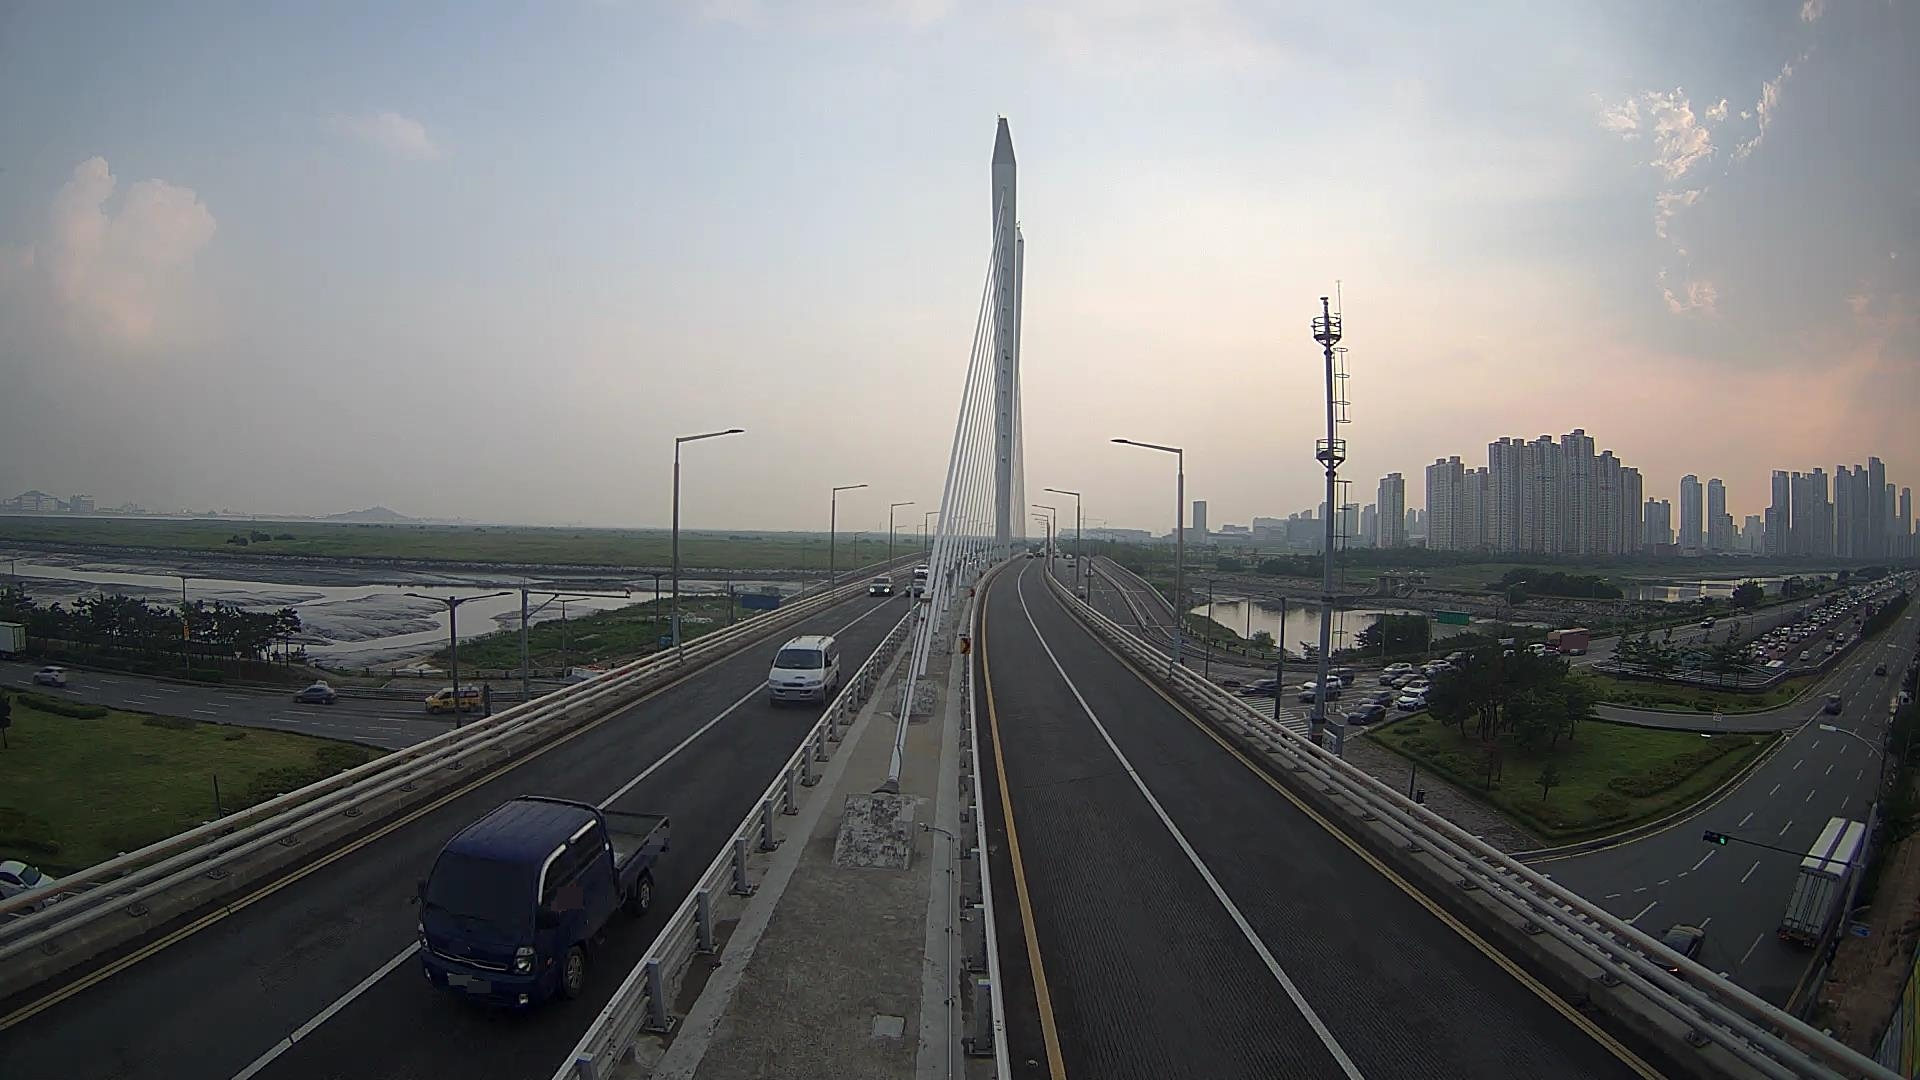정상차량: (410, 794, 670, 1014)
